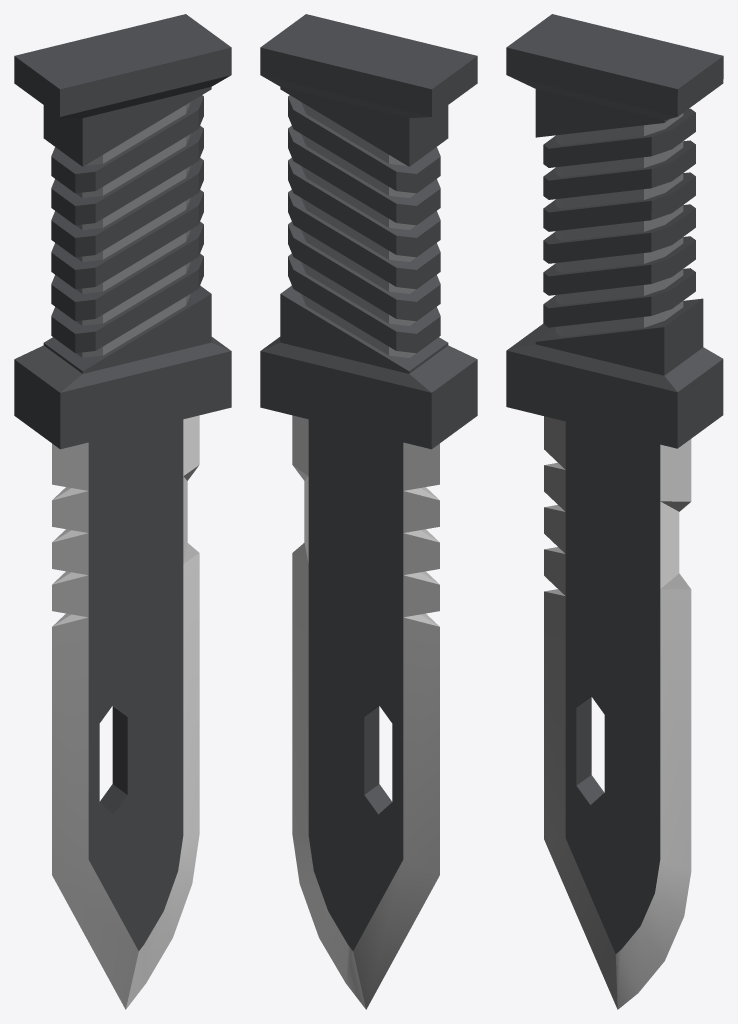
The model's file is Cutter_M_knife.000.fbx.
3 renders of one model, left to right at view 1: azimuth 30°, elevation 25°; view 2: azimuth 150°, elevation 25°; view 3: azimuth 330°, elevation 25°, orthographic.
Visible parts, largest first — view 1: Cutter_M_knife.000; view 2: Cutter_M_knife.000; view 3: Cutter_M_knife.000.
Part boxes in pixels (x1=…): Cutter_M_knife.000: x1=14, y1=14, x2=231, y2=1009; Cutter_M_knife.000: x1=260, y1=14, x2=477, y2=1009; Cutter_M_knife.000: x1=506, y1=14, x2=723, y2=1009.
Size of the model in its own units: 1.17 by 6.24 by 0.5419.
